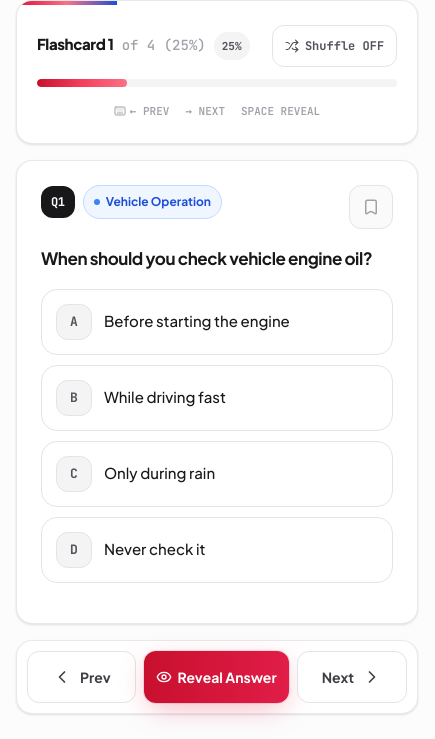
Test: FlashcardView Component › renders current flashcard and navigates next and prev
The image size is (435, 739).
Expected: the text "Flashcard 1" is shown, [37, 32, 114, 56]
Expected: the text "of 4 (25%)" is shown, [122, 35, 206, 55]
Note: Click Next
Click the button with aria-label "next question" at (352, 677), box [297, 651, 407, 703]
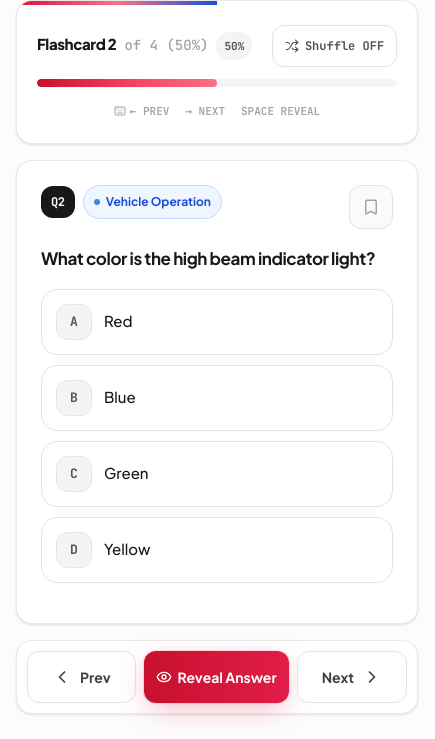
Result: the text "Flashcard 2" is shown at [37, 32, 116, 56]
Result: the heading "What color is the high beam indicator light?" is shown at [41, 245, 393, 273]
Note: Click Prev
Click the button with aria-label "previous question" at (81, 677), box [27, 651, 136, 703]
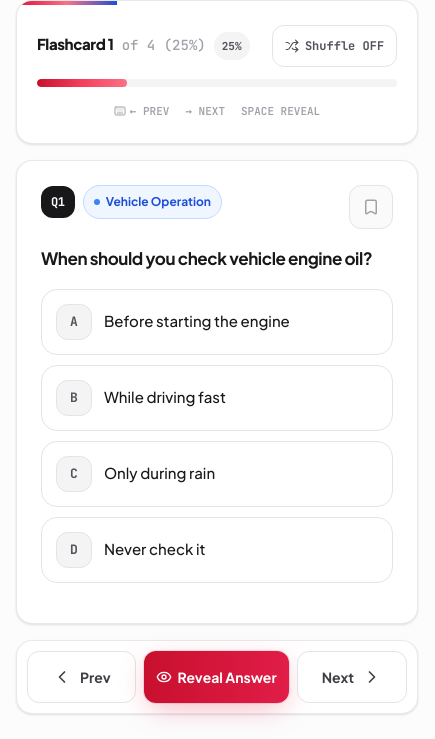
Result: the text "Flashcard 1" is shown at [37, 32, 114, 56]
